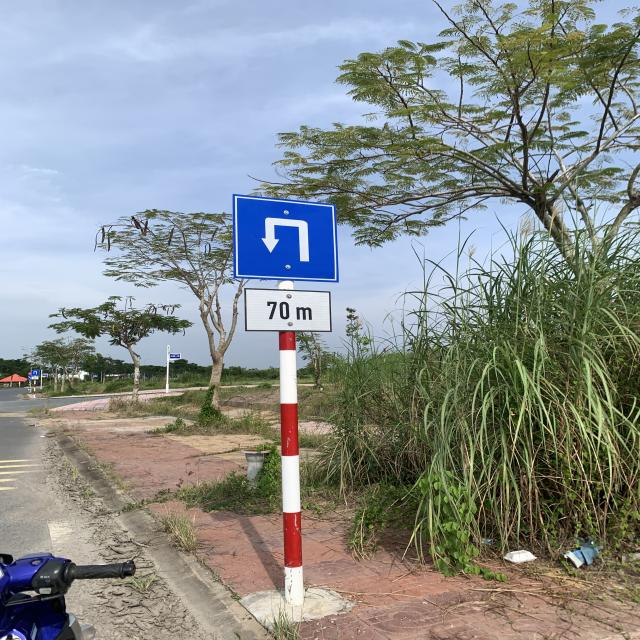Den_Giao_Thong: (234, 195, 338, 280)
